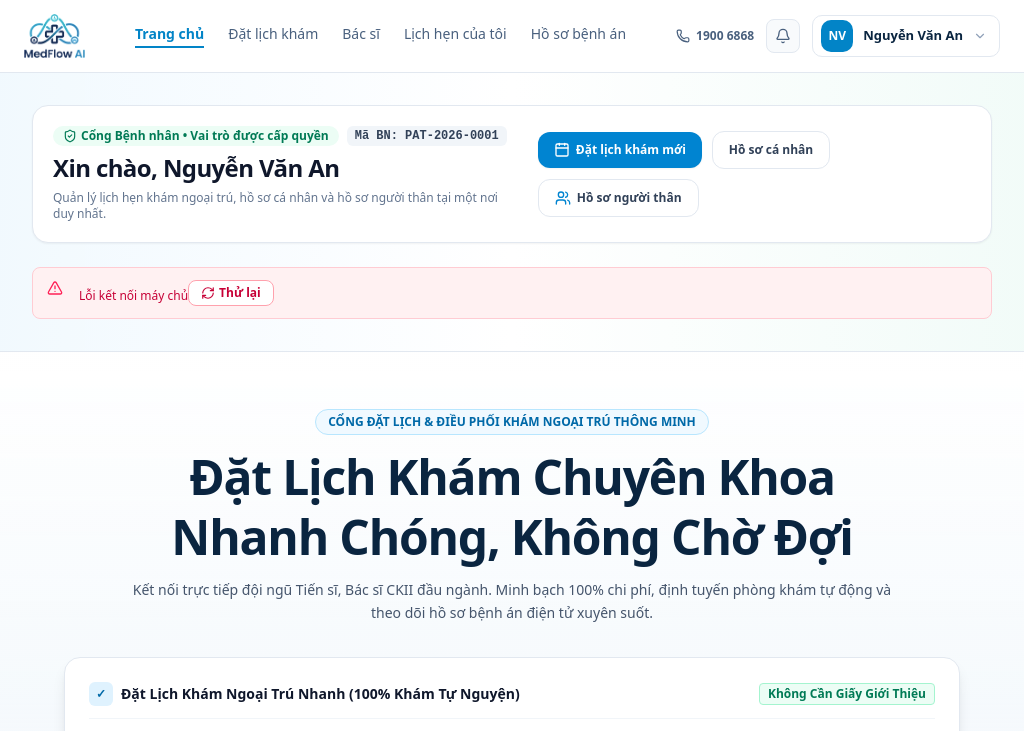
Test: HomePage & PatientHomeHub (M1-009) › xử lý trạng thái Empty và Error khi tải dữ liệu tổng quan Patient Home
This screenshot has width=1024, height=731.
Expected: the text "Lỗi kết nối máy chủ" is shown, x1=79 y1=287 x2=188 y2=304
Step 1. Click the button "Thử lại" → (231, 293), box x1=188 y1=280 x2=274 y2=306
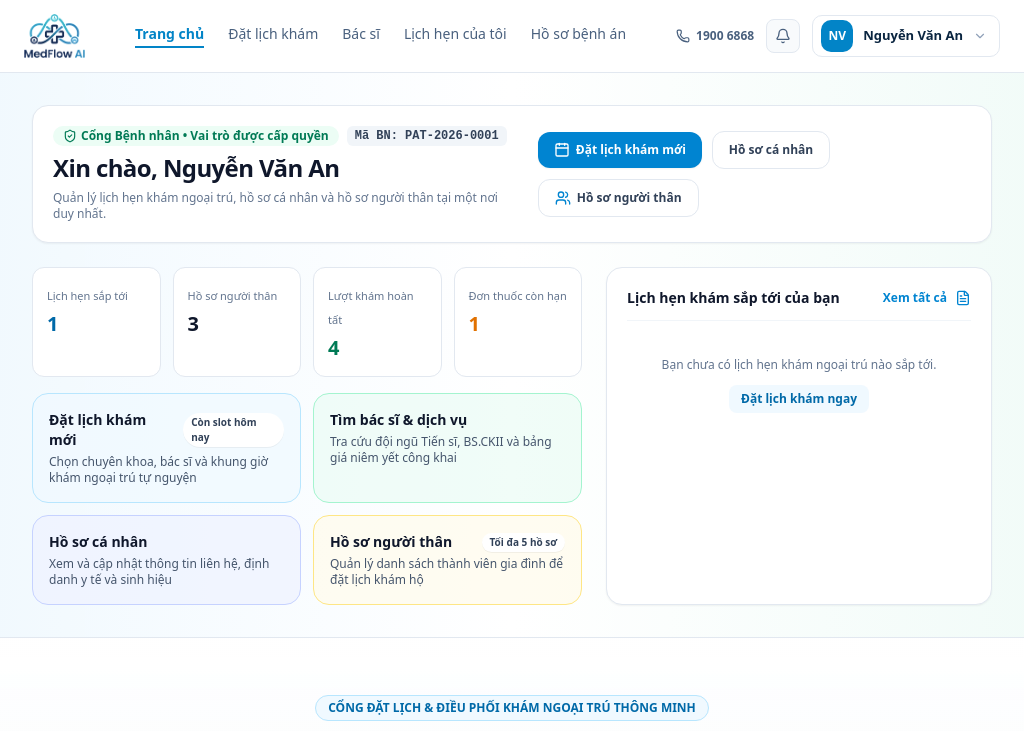
Expected: the text "Bạn chưa có lịch hẹn khám ngoại trú nào sắp tới." is shown, x1=662 y1=356 x2=936 y2=373
